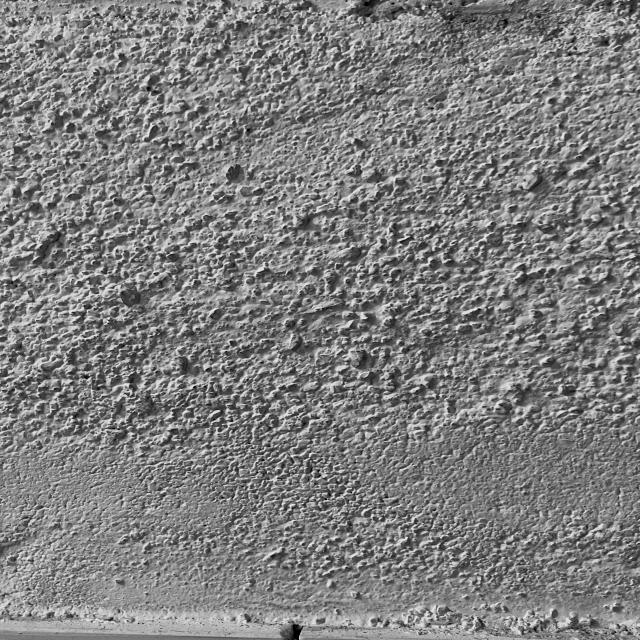rough and patchy surface: (0, 2, 639, 637)
